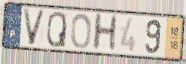4: (119, 16, 138, 54)
9: (144, 19, 162, 55)
H: (91, 13, 119, 52)
O: (70, 13, 93, 50)
Q: (45, 10, 67, 49)
V: (22, 8, 47, 47)
